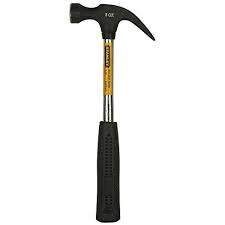hammer: (69, 2, 156, 225)
